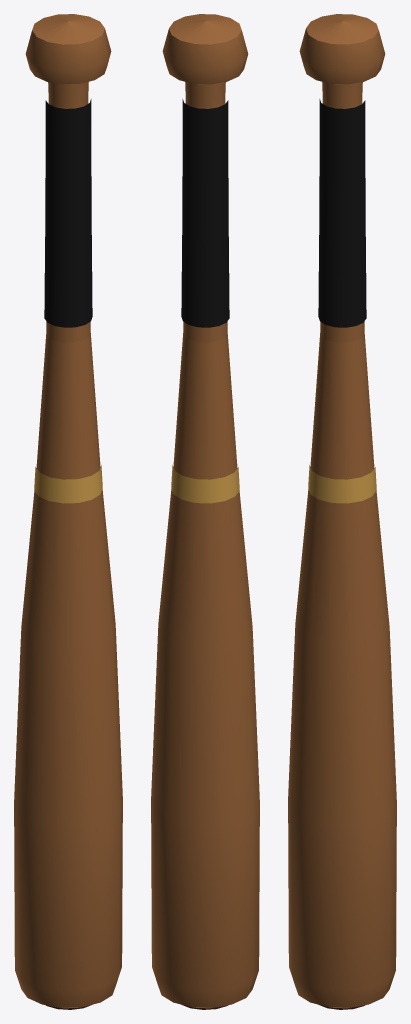
The model's file is bat.glb.
The picture shows the model from 3 angles, left to right: view 1: azimuth 30°, elevation 25°; view 2: azimuth 150°, elevation 25°; view 3: azimuth 330°, elevation 25°; orthographic projection.
Parts seen in each view (by area): view 1: Bat; view 2: Bat; view 3: Bat.
Boxes of the visible parts, bbox=[...] form: Bat: bbox=[14, 14, 122, 1009]; Bat: bbox=[151, 14, 259, 1009]; Bat: bbox=[288, 14, 396, 1009].
Bounding box in the file's own units: 0.254 × 2.5 × 0.2476.
